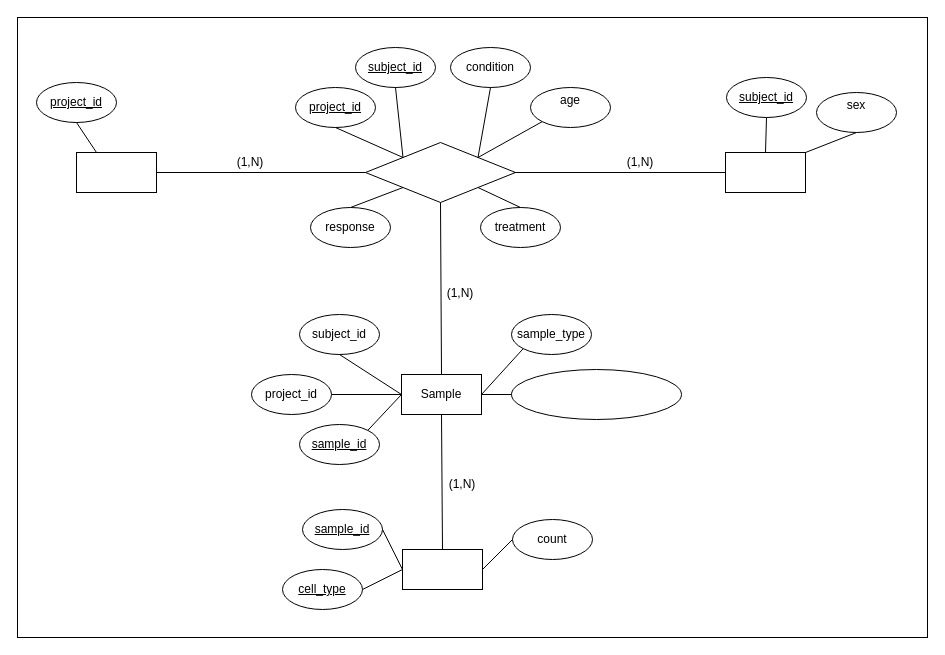
Image size: 945x655. Some labels were removed from this diagram. The centre of each missing label's shape, as x and y in pixels:
"Cell Count" belongs at point 442,569.
"Enrollment" belongs at point 440,172.
"Person" belongs at point 765,172.
"Project" belongs at point 116,172.
"time_from_treatment_start" belongs at point 596,394.
